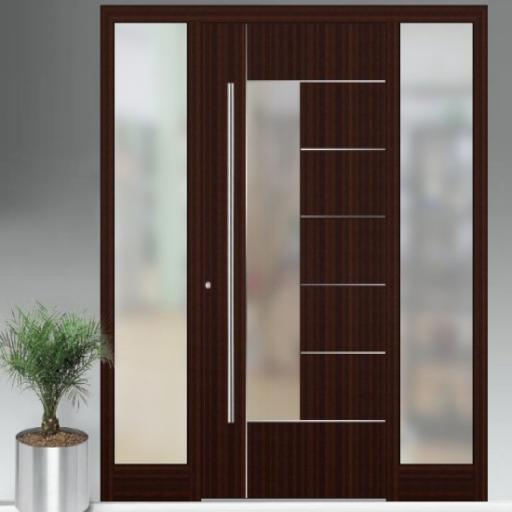Door: (100, 4, 488, 502)
